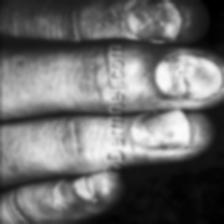Toxin: (154, 52, 224, 104)
